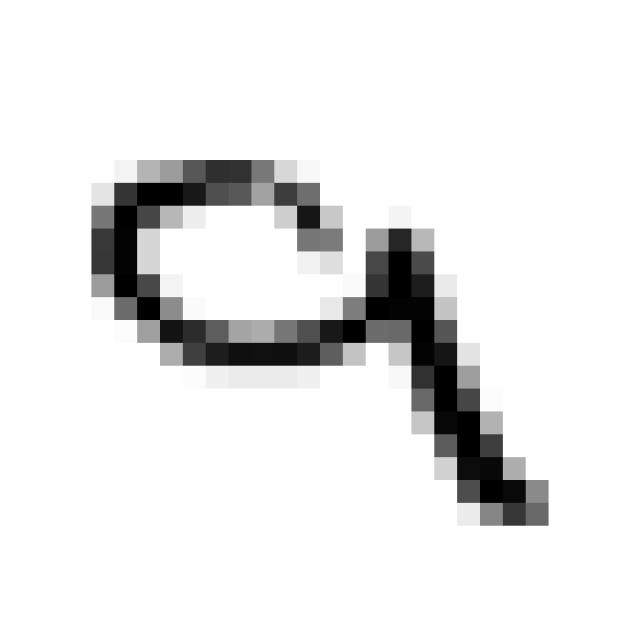9 -nine-: (73, 137, 567, 543)
